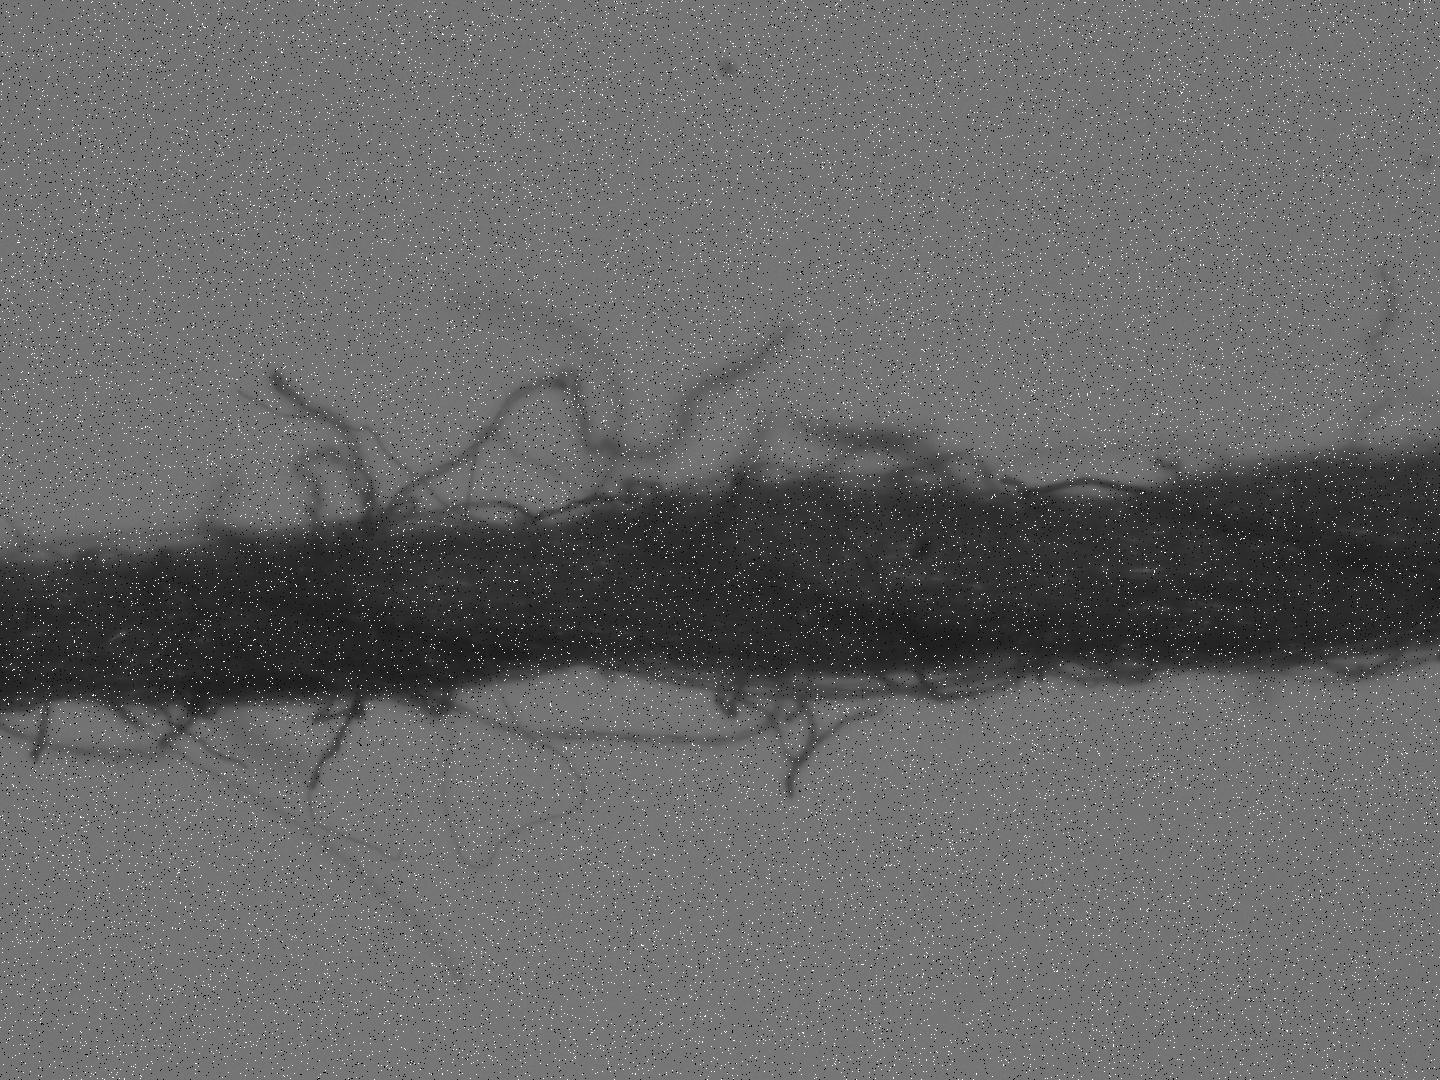loop_fiber: (689, 411, 1222, 506), (393, 659, 789, 750), (715, 674, 880, 807), (358, 476, 668, 535), (2, 685, 211, 763), (289, 449, 414, 542)
protruding_fiber: (92, 697, 463, 985), (375, 321, 795, 530), (476, 293, 630, 512), (418, 685, 590, 871), (268, 368, 383, 539), (303, 691, 400, 870), (1378, 259, 1439, 444), (154, 701, 254, 769), (1337, 390, 1403, 456)
